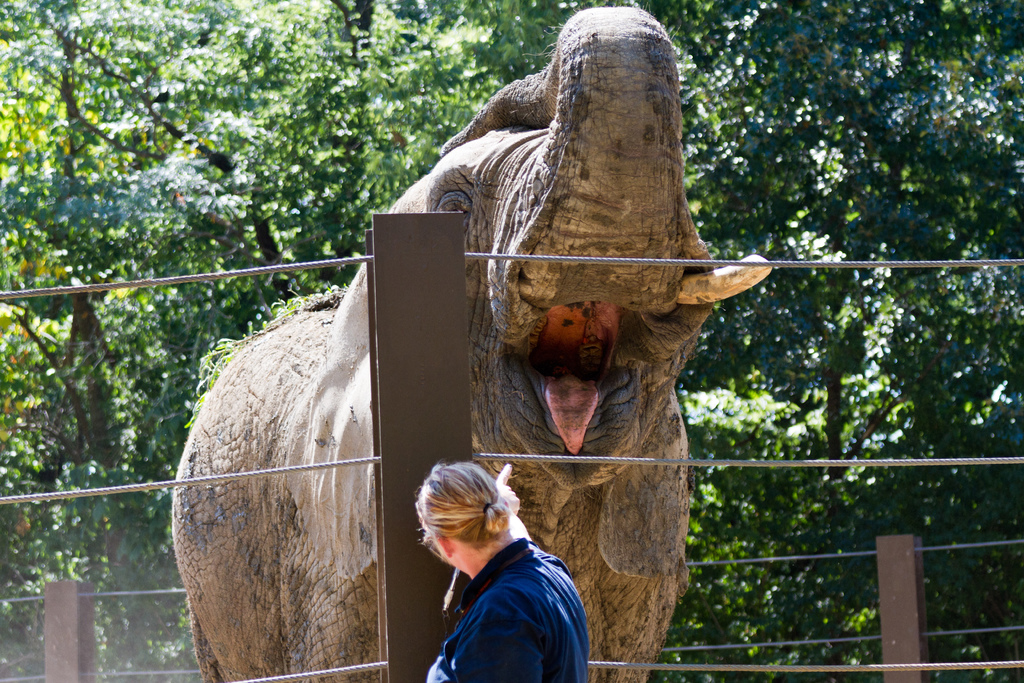Person: (409, 458, 590, 683)
